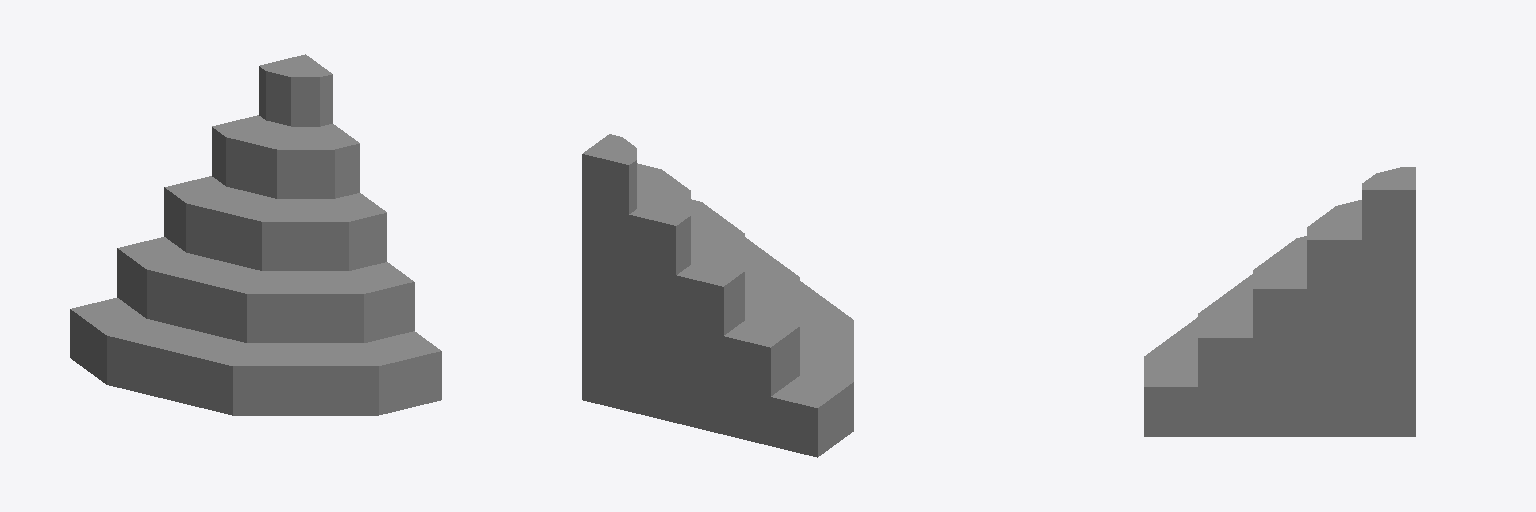
File: struct_steps_curved_outer.obj
The picture shows the model from 3 angles: view 1: azimuth 30°, elevation 25°; view 2: azimuth 150°, elevation 25°; view 3: azimuth 270°, elevation 25°; orthographic projection.
Visible parts, largest first — view 1: struct_steps_curved_outer; view 2: struct_steps_curved_outer; view 3: struct_steps_curved_outer.
Boxes of the visible parts, <box> form: struct_steps_curved_outer: <box>70,54,441,415</box>; struct_steps_curved_outer: <box>582,134,853,457</box>; struct_steps_curved_outer: <box>1144,167,1415,436</box>.
Bounding box in the file's own units: 1 × 1 × 1.